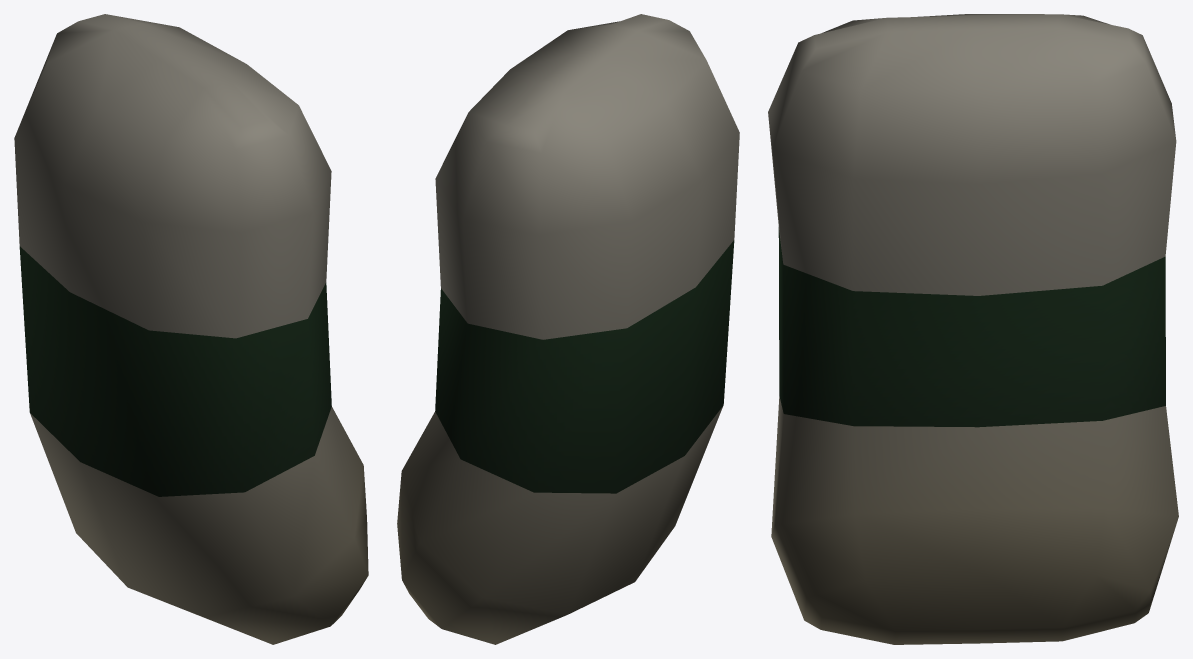
The model's file is Sack.fbx.
The picture shows the model from 3 angles, left to right: view 1: azimuth 30°, elevation 25°; view 2: azimuth 150°, elevation 25°; view 3: azimuth 270°, elevation 25°; orthographic projection. The views are drawn at different scales.
Visible parts, largest first — view 1: Sack; view 2: Sack; view 3: Sack.
Part boxes in pixels (x1,y1,x2,y2): Sack: (14, 14, 368, 644); Sack: (397, 14, 739, 644); Sack: (768, 14, 1178, 644).
Size of the model in its own units: 56.34 by 119 by 74.43.
